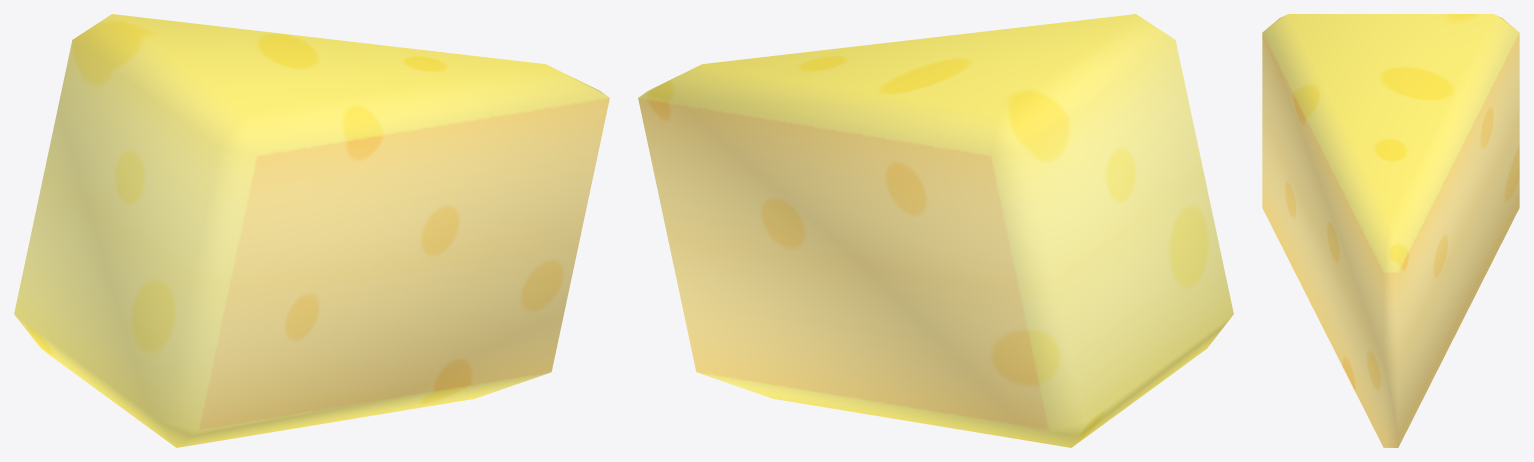
File: cheese.glb
The picture shows the model from 3 angles, left to right: view 1: azimuth 30°, elevation 25°; view 2: azimuth 150°, elevation 25°; view 3: azimuth 270°, elevation 25°; orthographic projection. The views are drawn at different scales.
Visible parts, largest first — view 1: Cube.001; view 2: Cube.001; view 3: Cube.001.
Part boxes in pixels (left/top/right/bottom): Cube.001: left=14, top=14, right=609, bottom=447; Cube.001: left=638, top=14, right=1233, bottom=447; Cube.001: left=1262, top=14, right=1519, bottom=447.
Size of the model in its own units: 1.33 by 0.9993 by 0.7569.
1 material, 1 textured.
